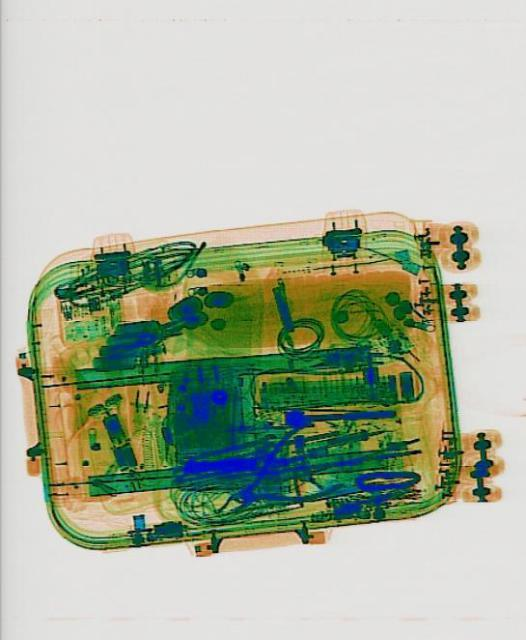Pliers: (215, 414, 343, 536)
